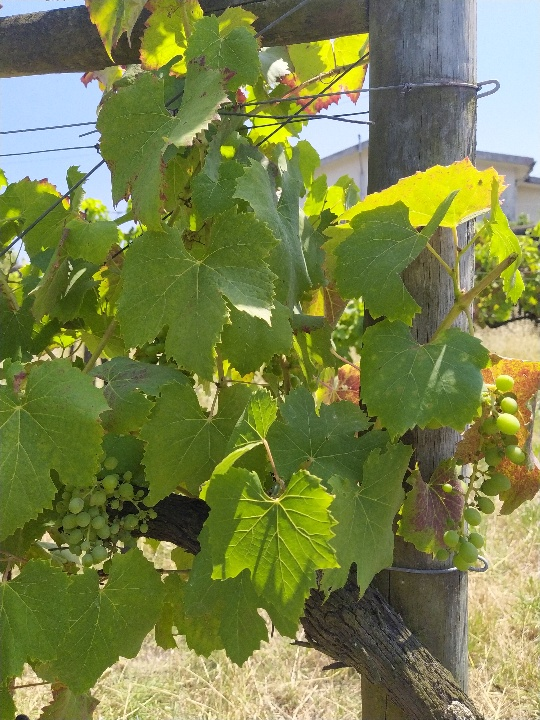grape: (438, 375, 528, 572), (53, 454, 158, 579)
